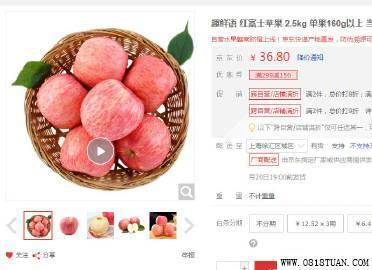apple: (79, 78, 143, 142), (116, 114, 172, 171), (36, 73, 89, 128), (124, 54, 177, 109), (72, 36, 128, 87), (60, 125, 114, 176)
